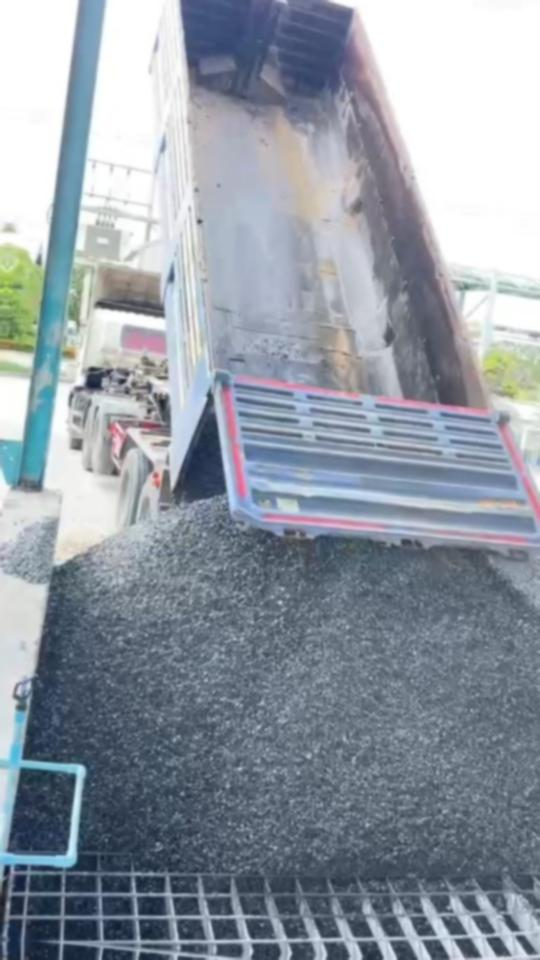gravel: (28, 498, 540, 874), (491, 556, 540, 644), (15, 773, 68, 848), (0, 518, 58, 583)
